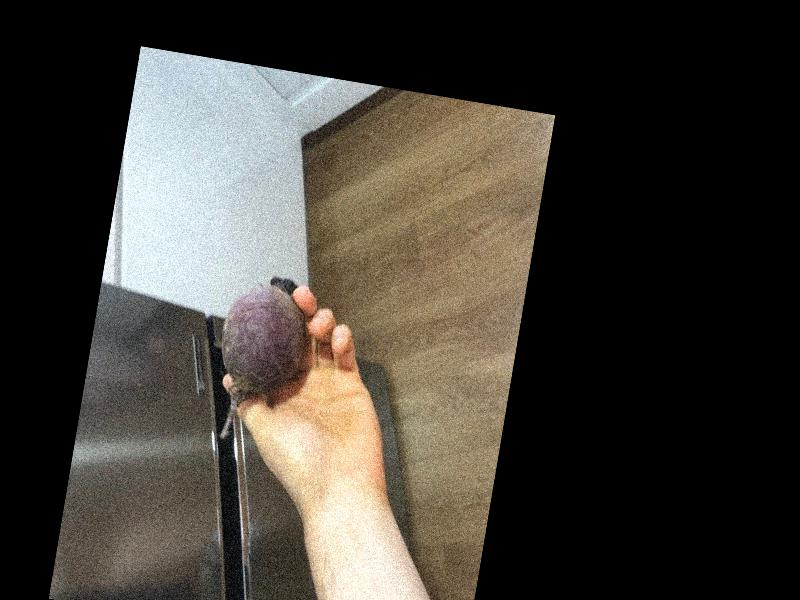Beet: (207, 268, 312, 447)
